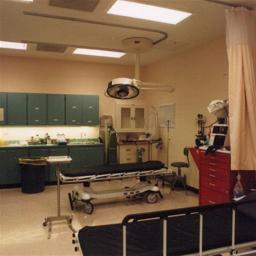Bote de Basura: (20, 158, 49, 192)
Cama: (70, 193, 253, 255), (62, 157, 171, 208)
